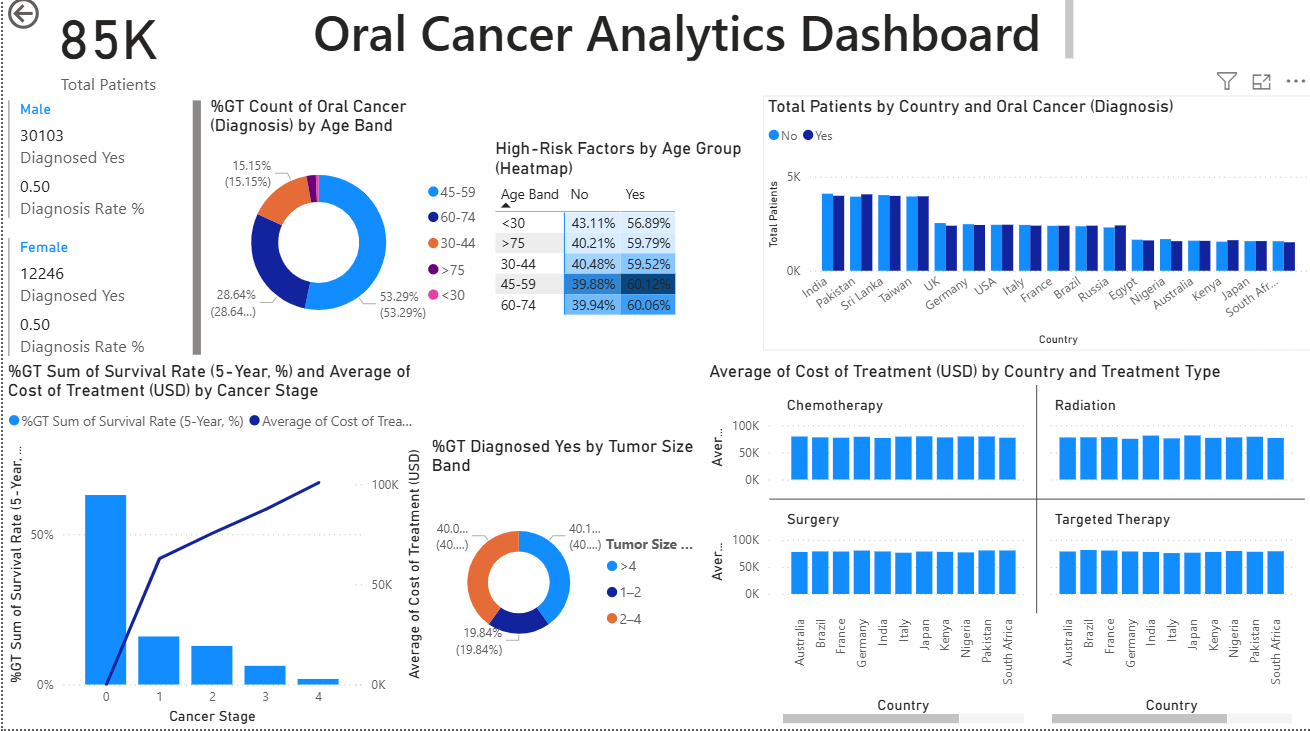

What the dashboard file says about the page in this screenshot:
{"tool":"powerbi","page":{"name":"Page 1","canvas":[1280,720],"ordinal":0},"visuals":[{"type":"donutChart","fields":{"Y":["oral_cancer_prediction_dataset.Diagnosed Yes"],"Series":["oral_cancer_prediction_dataset.Tumor Size Band"]},"box":[414.5,432.9,271.5,249.5],"z":0},{"type":"card","fields":{"Values":["oral_cancer_prediction_dataset.Total Patients"]},"box":[0,0,206.8,100],"z":1000},{"type":"multiRowCard","fields":{"Values":["oral_cancer_prediction_dataset.Diagnosed Yes","oral_cancer_prediction_dataset.Diagnosis Rate %","oral_cancer_prediction_dataset.Gender"]},"box":[0,100,198.6,270.3],"z":2000},{"type":"actionButton","box":[0,0,100,40],"z":3000},{"type":"clusteredColumnChart","fields":{"Category":["oral_cancer_prediction_dataset.Country"],"Y":["Avg(oral_cancer_prediction_dataset.Cost of Treatment (USD))"],"Rows":["oral_cancer_prediction_dataset.Treatment Type"]},"box":[686.5,359.5,593.2,360.8],"z":4000},{"type":"lineStackedColumnComboChart","fields":{"Category":["oral_cancer_prediction_dataset.Cancer Stage"],"Y":["Sum(oral_cancer_prediction_dataset.Survival Rate (5-Year, %))"],"Y2":["Avg(oral_cancer_prediction_dataset.Cost of Treatment (USD))"]},"box":[0,359.5,414.5,360.7],"z":5000},{"type":"clusteredColumnChart","fields":{"Category":["oral_cancer_prediction_dataset.Country"],"Y":["oral_cancer_prediction_dataset.Total Patients"],"Series":["oral_cancer_prediction_dataset.Oral Cancer (Diagnosis)"]},"box":[743.5,100.3,536.8,249.5],"z":6000},{"type":"donutChart","fields":{"Category":["oral_cancer_prediction_dataset.Age Band"],"Y":["Divide(CountNonNull(oral_cancer_prediction_dataset.Oral Cancer (Diagnosis)), ScopedEval(CountNonNull(oral_cancer_predict"]},"box":[198.1,100.3,278.8,249.5],"z":7000},{"type":"pivotTable","title":"High-Risk Factors by Age Group (Heatmap)","fields":{"Rows":["oral_cancer_prediction_dataset.Age Band"],"Columns":["oral_cancer_prediction_dataset.Alcohol Consumption","oral_cancer_prediction_dataset.Tobacco Use","oral_cancer_prediction_dataset.Betel Quid Use"],"Values":["oral_cancer_prediction_dataset.Total Patients"]},"box":[476.9,141.8,266.6,185.9],"z":8000},{"type":"textbox","box":[275.7,0,777,71.6],"z":9000}]}

Visuals, with their boxes in screenshot pixels (x1, y1, x2, y2), scaled from the page's 1280x720 canvas onto the 1310x731 screenshot:
donutChart - oral_cancer_prediction_dataset.Diagnosed Yes x oral_cancer_prediction_dataset.Tumor Size Band: 424 440 702 693
card - oral_cancer_prediction_dataset.Total Patients: 0 0 212 102
multiRowCard - oral_cancer_prediction_dataset.Diagnosed Yes x oral_cancer_prediction_dataset.Diagnosis Rate %: 0 102 203 376
actionButton: 0 0 102 41
clusteredColumnChart - oral_cancer_prediction_dataset.Country x Avg(oral_cancer_prediction_dataset.Cost of Treatment (USD)): 703 365 1309 730
lineStackedColumnComboChart - oral_cancer_prediction_dataset.Cancer Stage x Sum(oral_cancer_prediction_dataset.Survival Rate (5-Year, %)): 0 365 424 730
clusteredColumnChart - oral_cancer_prediction_dataset.Country x oral_cancer_prediction_dataset.Total Patients: 761 102 1309 355
donutChart - oral_cancer_prediction_dataset.Age Band x Divide(CountNonNull(oral_cancer_prediction_dataset.Oral Cancer (Diagnosis)), ScopedEval(CountNonNull(oral_cancer_predict: 203 102 488 355
"High-Risk Factors by Age Group (Heatmap)" pivotTable: 488 144 761 333
textbox: 282 0 1077 73
